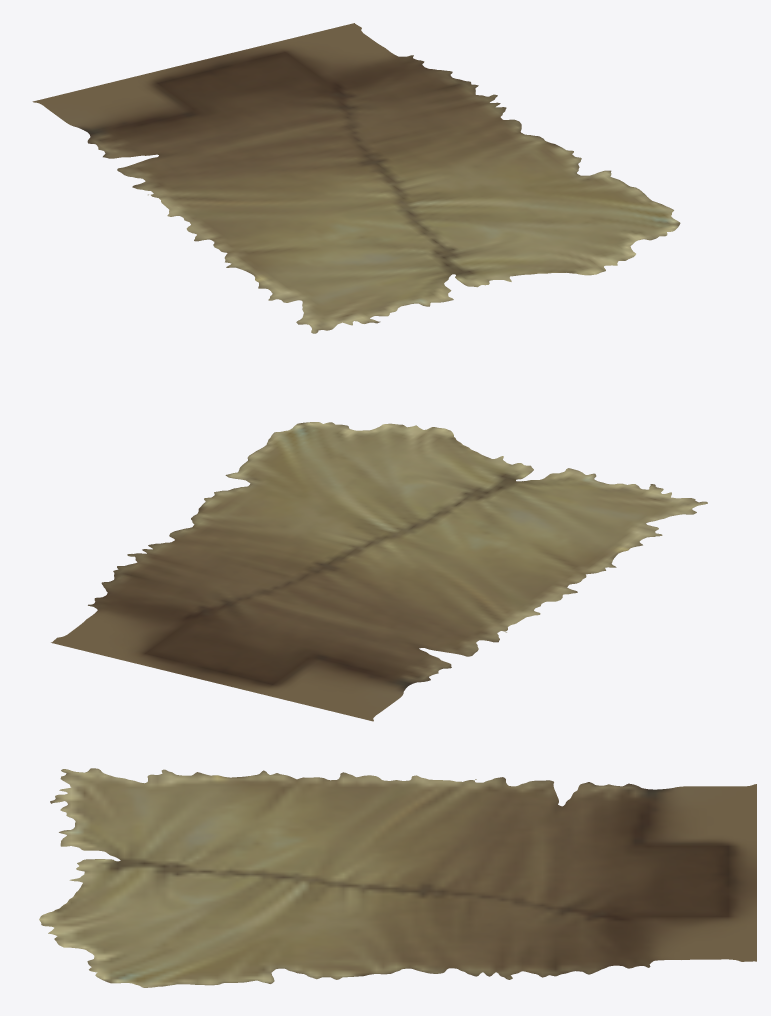
The model's file is Lty_toutie05.FBX.
3 renders of one model, top to bottom at view 1: azimuth 30°, elevation 25°; view 2: azimuth 150°, elevation 25°; view 3: azimuth 270°, elevation 25°, orthographic. The views are drawn at different scales.
Visible parts, largest first — view 1: Lty_toutie05; view 2: Lty_toutie05; view 3: Lty_toutie05.
Boxes of the visible parts, x1,y1,x2,y2 form: Lty_toutie05: (32,23,680,333); Lty_toutie05: (51,422,707,721); Lty_toutie05: (39,768,756,987).
Bounding box in the file's own units: 34.28 × 43.46 × 0.
